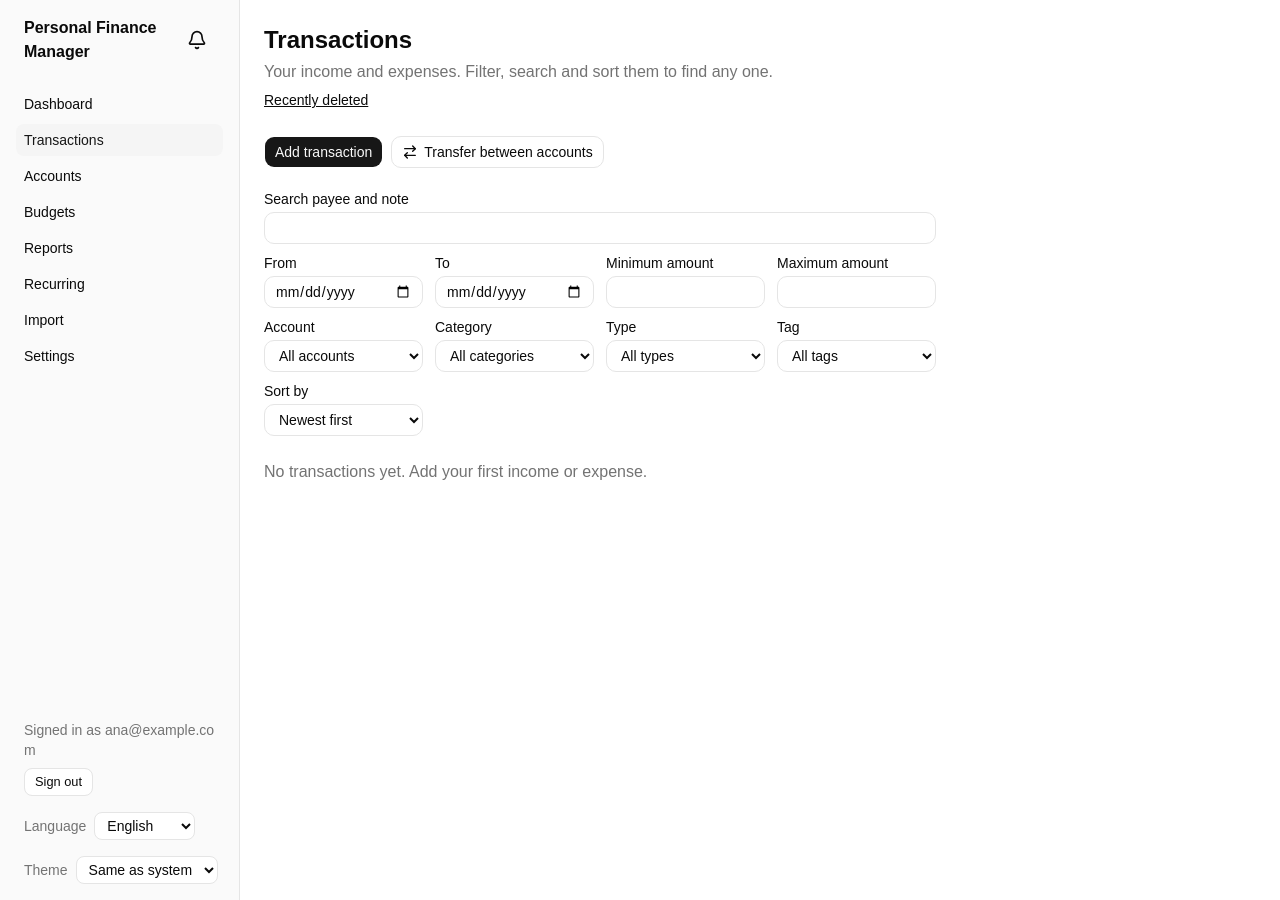
Scenario: transfers › offer only accounts that are not archived, and need two of them
Expected: the button "Add transaction" is shown, [264,136,383,168]
Click the button "Transfer between accounts" at (498,152), box [391,136,604,168]
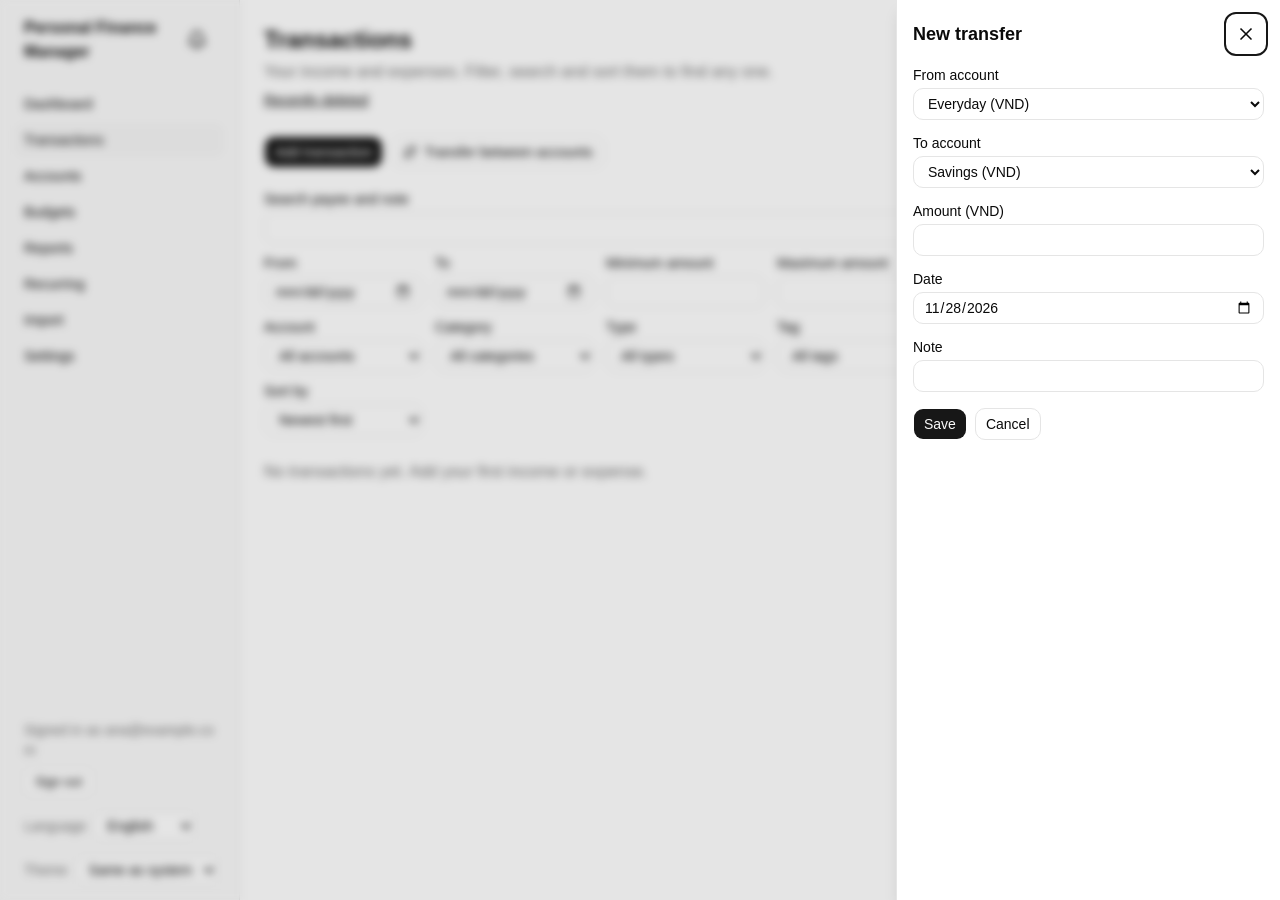
Result: the dropdown labelled "To account" shows "Savings (VND)" at [913,156,1264,188]
